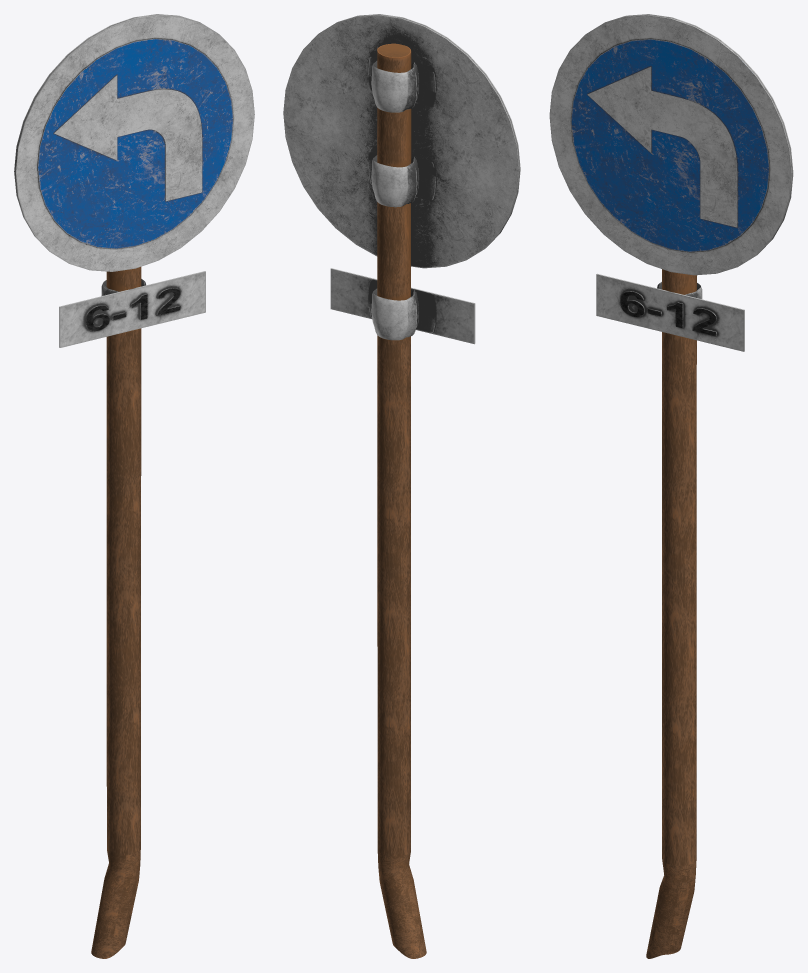
3 views of the same model, side by side, from view 1: azimuth 30°, elevation 25°; view 2: azimuth 150°, elevation 25°; view 3: azimuth 330°, elevation 25° (orthographic). The views are drawn at different scales.
Parts seen in each view (by area): view 1: Center, Tube, Numbers.001, Numbers; view 2: Center, Tube, Support, Numbers.001; view 3: Center, Tube, Numbers.001, Numbers.
Part boxes in pixels (x1,y1,x2,y2): Center: [14, 14, 254, 271]; Tube: [91, 267, 141, 958]; Numbers.001: [59, 271, 205, 347]; Numbers: [85, 288, 180, 331]; Center: [283, 14, 520, 268]; Tube: [377, 43, 426, 958]; Support: [368, 52, 435, 340]; Numbers.001: [330, 268, 475, 344]; Center: [549, 14, 793, 275]; Tube: [646, 269, 696, 958]; Numbers.001: [596, 273, 744, 351]; Numbers: [620, 291, 716, 336].
Bounding box in the file's own units: 1.14 × 4.26 × 0.167.
5 materials, 5 textured.
